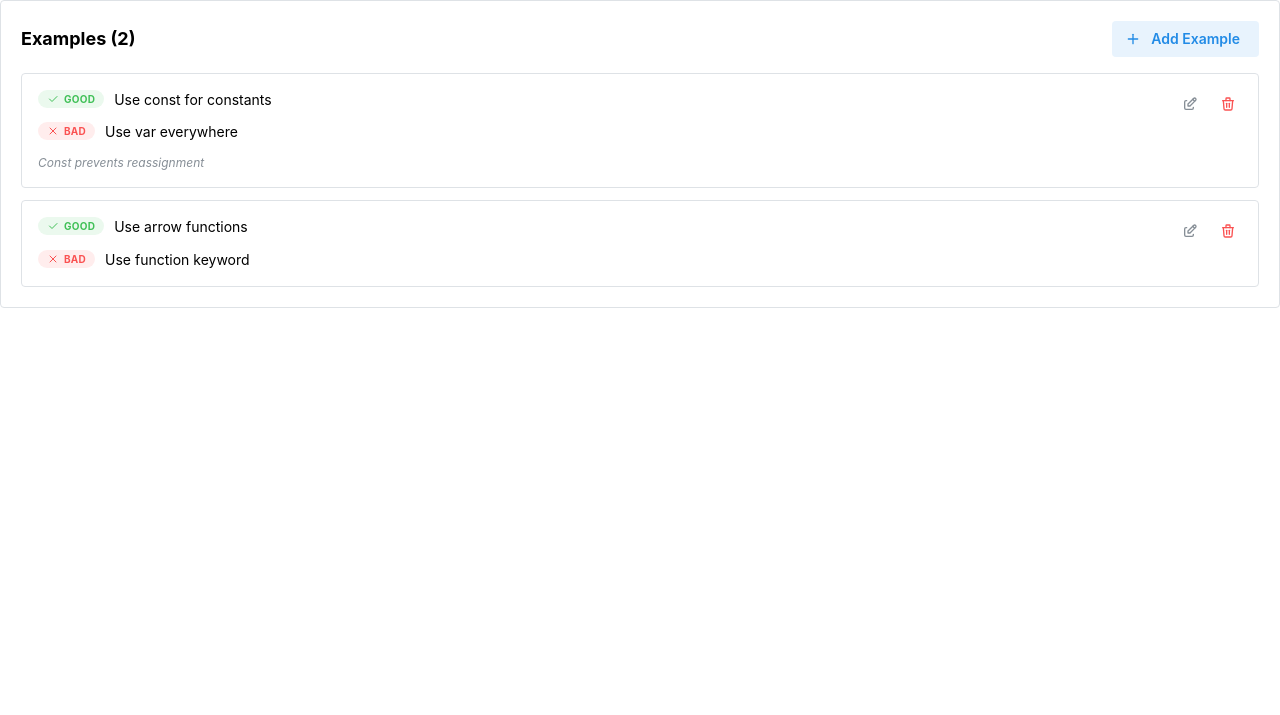
Test case: RuleExamplesManager › should show add form when add button is clicked
This screenshot has width=1280, height=715.
Click the button "Add Example" at x=1186, y=39, box 1112,21 -> 1259,57
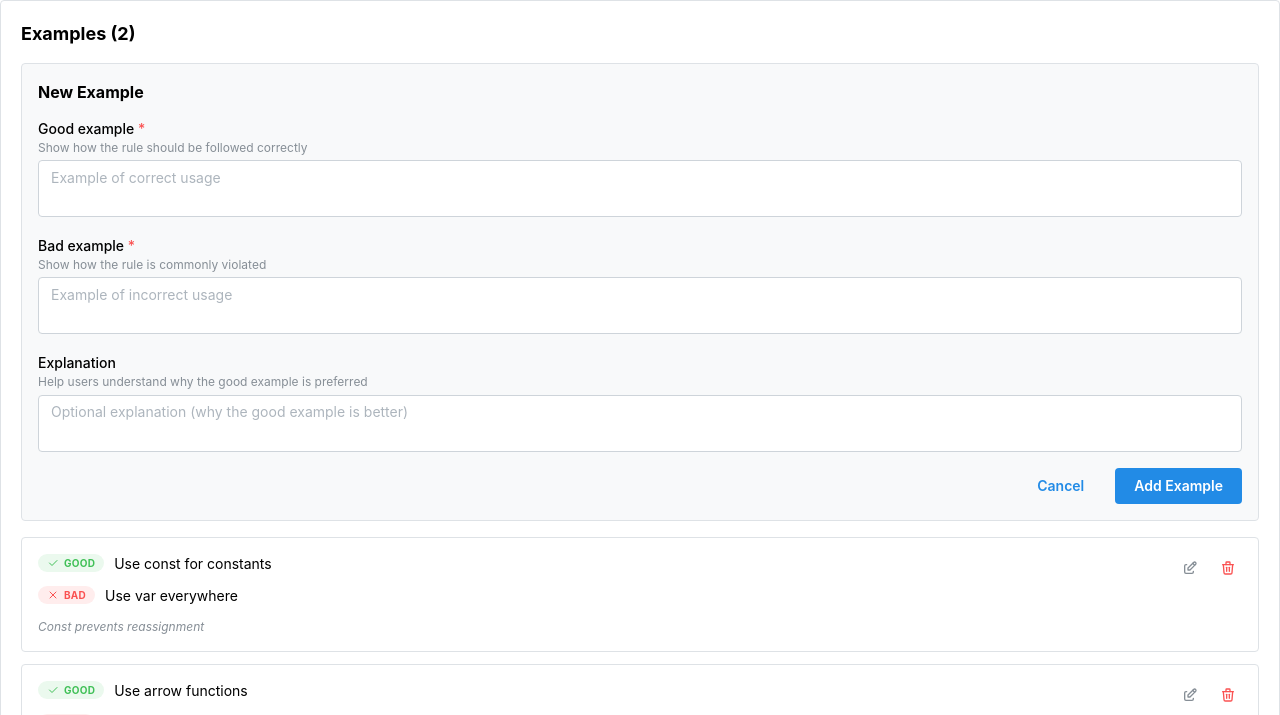
Result: the heading "New Example" is shown at 38,82 -> 144,102
Result: the text box labelled "Good example *" is shown at 38,160 -> 1242,217
Result: the text box labelled "Bad example *" is shown at 38,278 -> 1242,334
